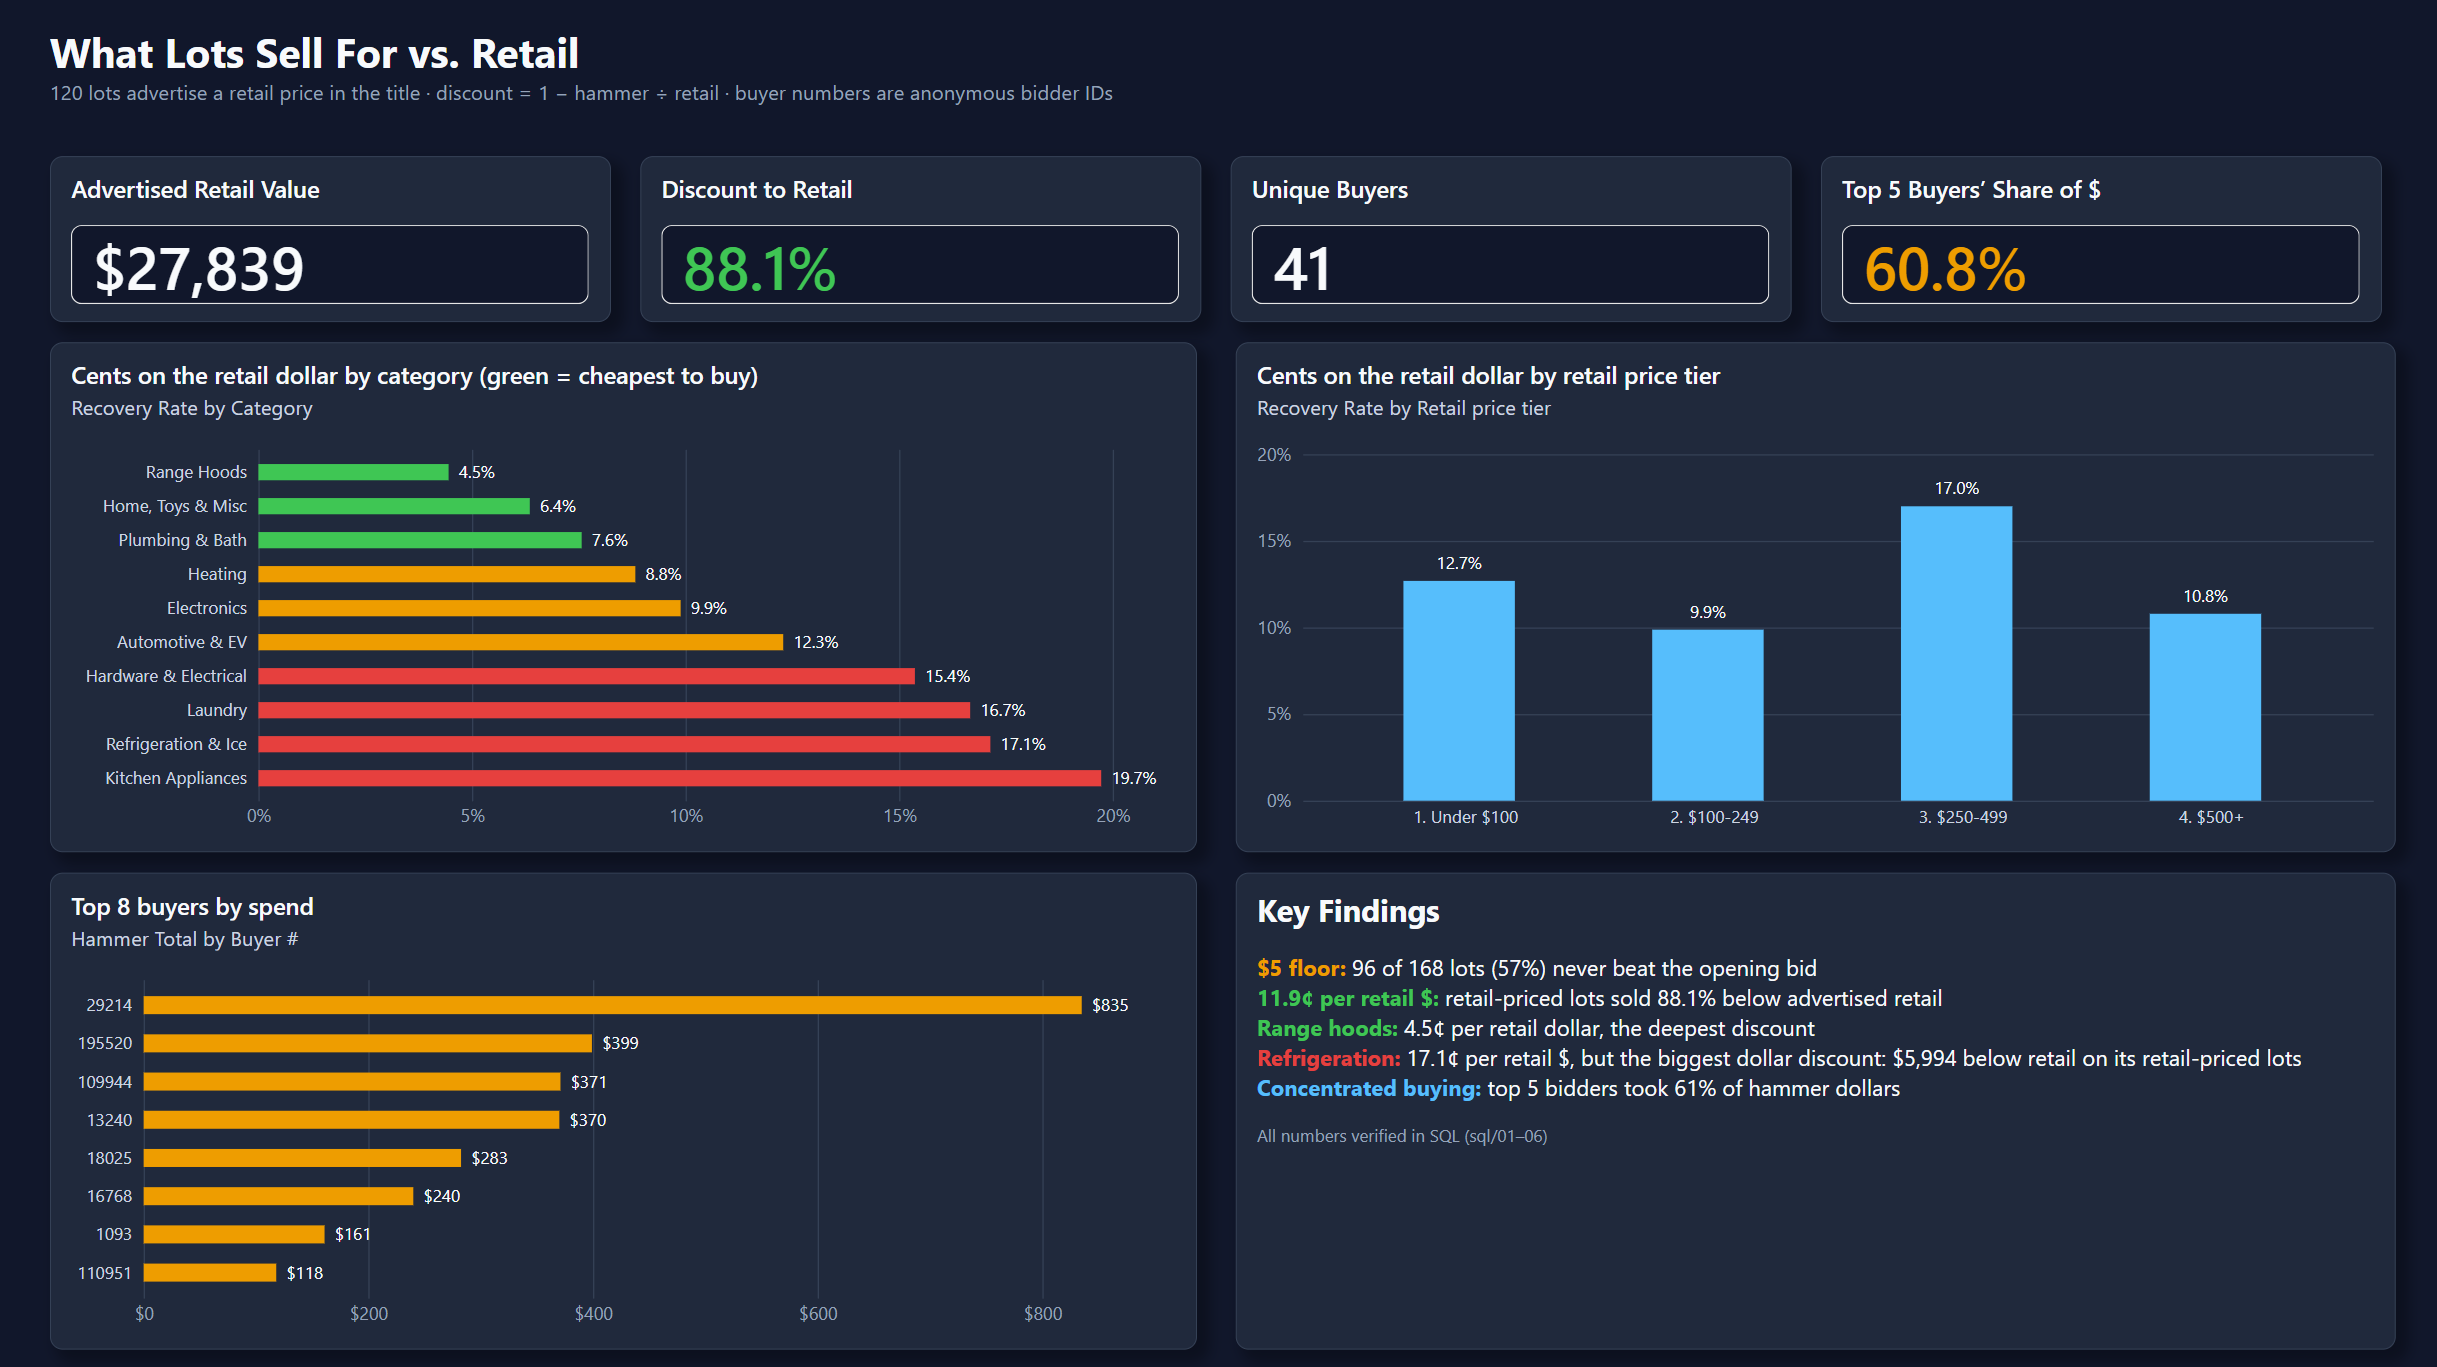

What the dashboard file says about the page in this screenshot:
{"tool":"powerbi","page":{"name":"Retail Discount & Buyers","canvas":[1920,1080],"ordinal":1},"visuals":[{"type":"textbox","box":[40,20,1340,84],"z":100},{"type":"cardVisual","title":"Advertised Retail Value","fields":{"Data":["_Measures.Retail Value"]},"box":[40,124,440,170],"z":200},{"type":"cardVisual","title":"Discount to Retail","fields":{"Data":["_Measures.Discount to Retail"]},"box":[503,124,440,170],"z":200},{"type":"cardVisual","title":"Unique Buyers","fields":{"Data":["_Measures.Unique Buyers"]},"box":[966,124,440,170],"z":200},{"type":"cardVisual","title":"Top 5 Buyers’ Share of $","fields":{"Data":["_Measures.Top 5 Buyer Share"]},"box":[1429,124,440,170],"z":200},{"type":"clusteredBarChart","title":"Cents on the retail dollar by category (green = cheapest to buy)","fields":{"Category":["FactLots.category"],"Y":["_Measures.Recovery Rate"]},"box":[40,324,900,380],"z":300},{"type":"clusteredColumnChart","title":"Cents on the retail dollar by retail price tier","fields":{"Category":["FactLots.retail_tier"],"Y":["_Measures.Recovery Rate"]},"box":[970,324,910,380],"z":300},{"type":"clusteredBarChart","title":"Top 10 buyers by spend","fields":{"Category":["FactLots.buyer_id"],"Y":["_Measures.Hammer Total"]},"box":[40,734,900,306],"z":300},{"type":"textbox","box":[970,734,910,306],"z":400}]}

Visuals, with their boxes in screenshot pixels (x1, y1, x2, y2), scaled from the page's 1920x1080 canvas onto the 2437x1367 screenshot:
textbox: rect(51, 25, 1752, 132)
"Advertised Retail Value" cardVisual: rect(51, 157, 609, 372)
"Discount to Retail" cardVisual: rect(638, 157, 1197, 372)
"Unique Buyers" cardVisual: rect(1226, 157, 1785, 372)
"Top 5 Buyers’ Share of $" cardVisual: rect(1814, 157, 2372, 372)
"Cents on the retail dollar by category (green = cheapest to buy)" clusteredBarChart: rect(51, 410, 1193, 891)
"Cents on the retail dollar by retail price tier" clusteredColumnChart: rect(1231, 410, 2386, 891)
"Top 10 buyers by spend" clusteredBarChart: rect(51, 929, 1193, 1316)
textbox: rect(1231, 929, 2386, 1316)
